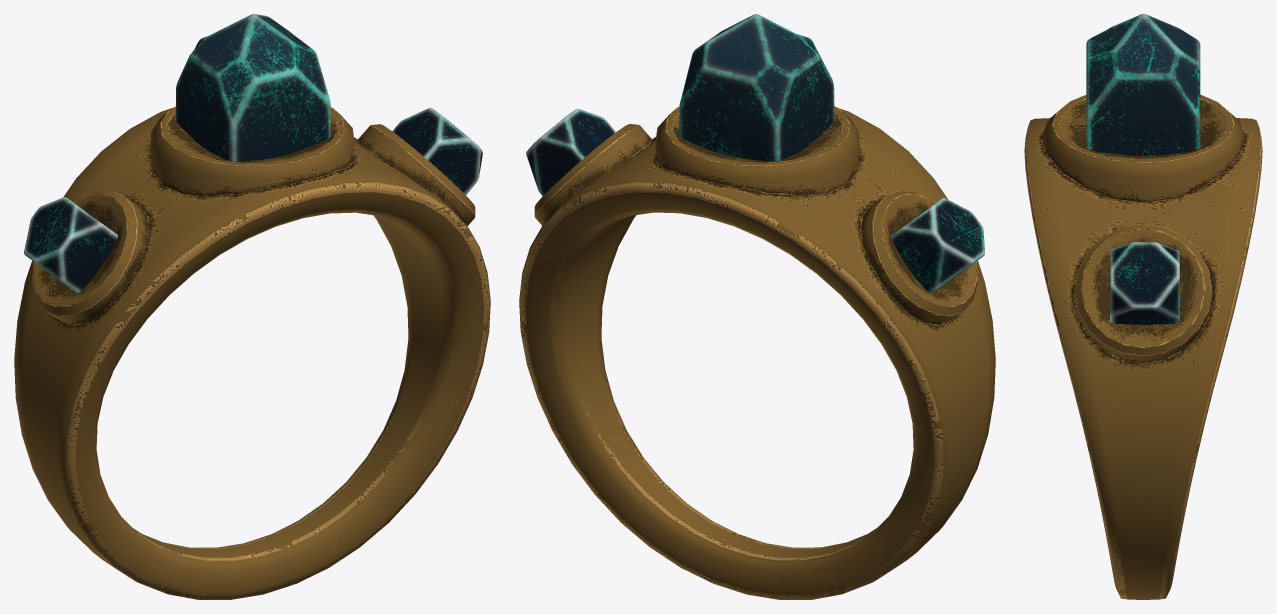
File: magic_ring.glb
3 views of the same model, side by side, from view 1: azimuth 30°, elevation 25°; view 2: azimuth 150°, elevation 25°; view 3: azimuth 270°, elevation 25° (orthographic).
Parts seen in each view (by area): view 1: polySurface11, polySurface10; view 2: polySurface11, polySurface10; view 3: polySurface11, polySurface10.
Part boxes in pixels (x1,y1,x2,y2): polySurface11: (14, 106, 490, 599); polySurface10: (24, 14, 482, 293); polySurface11: (519, 106, 995, 599); polySurface10: (526, 14, 985, 293); polySurface11: (1024, 94, 1262, 599); polySurface10: (1086, 14, 1200, 324).
Bounding box in the file's own units: 2.4 × 2.94 × 1.12.
Materials: 2 (2 with a texture image).
